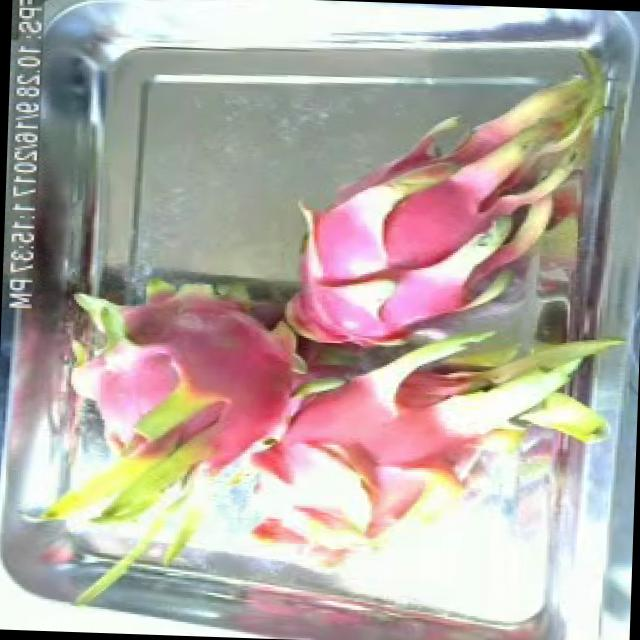Fruit: (366, 174, 512, 288), (272, 280, 428, 352)
